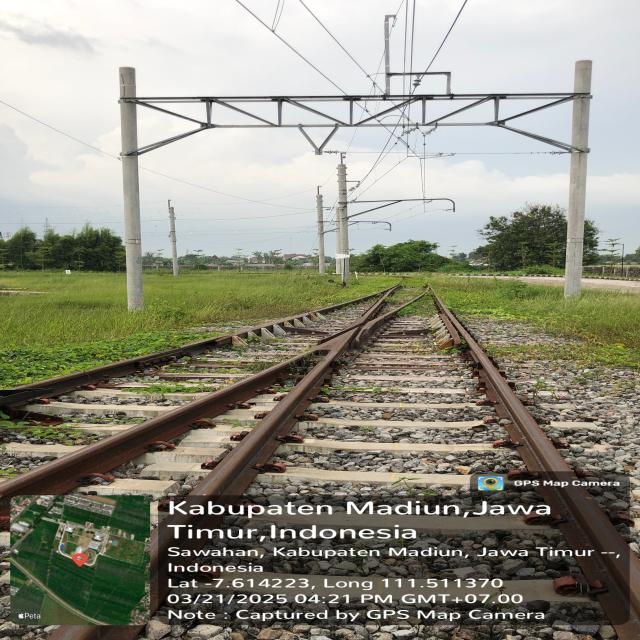rail-detection: (0, 289, 404, 506), (435, 297, 630, 625), (0, 335, 234, 408)
